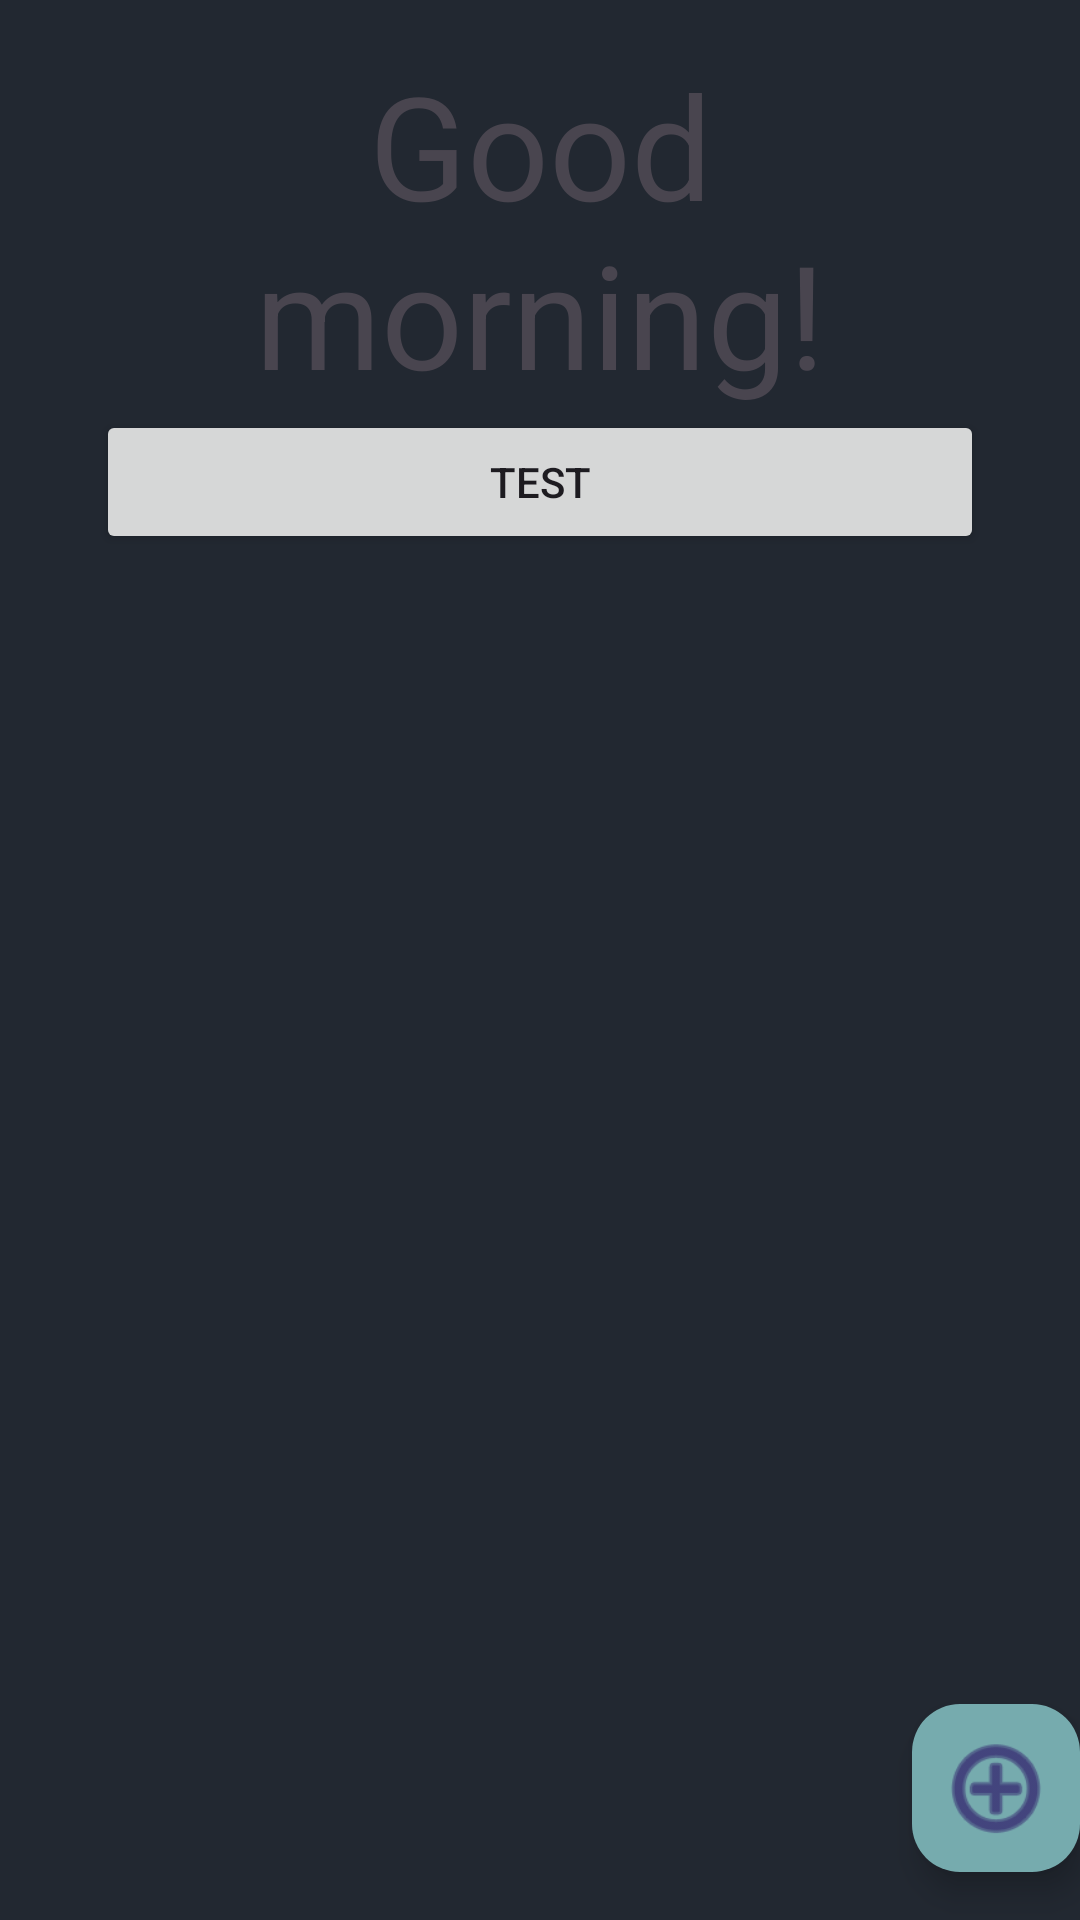

Where to tap for icons on this 1080w x 1920h app screen, as (x,y):
add: (996,1788)
